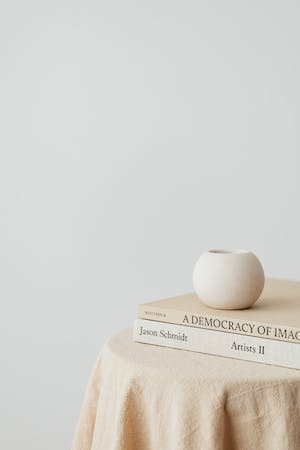book: (133, 273, 300, 342), (123, 317, 300, 371)
